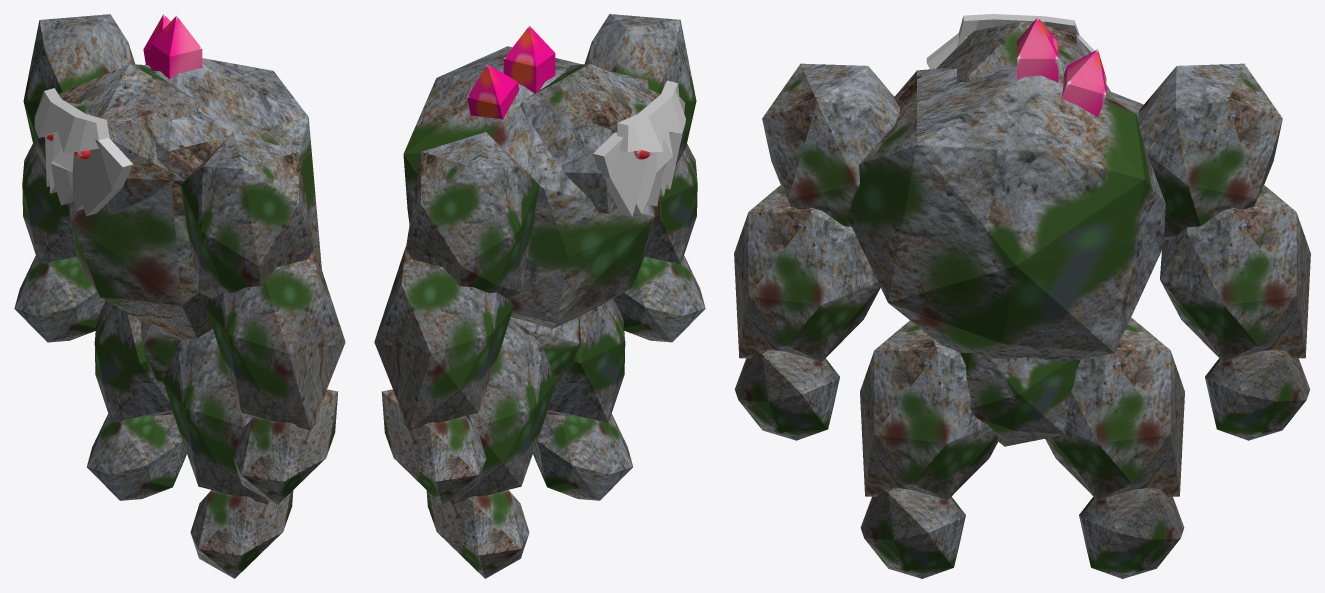
The model's file is Golem.fbx.
3 views of the same model, side by side, from view 1: azimuth 30°, elevation 25°; view 2: azimuth 150°, elevation 25°; view 3: azimuth 270°, elevation 25° (orthographic). The views are drawn at different scales.
Visible parts, largest first — view 1: Cube.001, Cube.003, Cube.007, Cube.004, Cube.005, Cube.006, Cube, Kopf oben, Stirn, Würfel.001, Cube.002; view 2: Cube.001, Cube.003, Cube.007, Cube.004, Cube.005, Cube.006, Cube, Kopf oben, Stirn, Würfel.001, Cube.002, Würfel; view 3: Cube.001, Cube.007, Cube.004, Cube.003, Cube.006, Cube.005, Cube.002, Cube, Würfel, Würfel.001, Stirn.
Part boxes in pixels (box(x1,y1,x2,y2)): Cube.001: box(68, 58, 321, 340); Cube.003: box(23, 14, 313, 298); Cube.007: box(22, 144, 345, 430); Cube.004: box(94, 300, 268, 503); Cube.005: box(87, 414, 293, 578); Cube.006: box(14, 255, 337, 504); Cube: box(58, 64, 199, 214); Kopf oben: box(45, 131, 133, 216); Stirn: box(34, 88, 109, 152); Würfel.001: box(150, 16, 202, 79); Cube.002: box(141, 321, 182, 384); Cube.001: box(403, 46, 661, 328); Cube.003: box(405, 14, 696, 298); Cube.007: box(374, 143, 697, 430); Cube.004: box(451, 298, 625, 503); Cube.005: box(426, 414, 632, 578); Cube.006: box(381, 255, 705, 504); Cube: box(520, 64, 660, 214); Kopf oben: box(593, 97, 685, 216); Stirn: box(617, 80, 685, 152); Würfel.001: box(503, 26, 555, 93); Cube.002: box(509, 317, 580, 383); Würfel: box(467, 64, 519, 119); Cube.001: box(847, 66, 1166, 361); Cube.007: box(734, 185, 1310, 362); Cube.004: box(860, 317, 1184, 500); Cube.003: box(762, 63, 1282, 239); Cube.006: box(734, 349, 1310, 440); Cube.005: box(860, 487, 1184, 578); Cube.002: box(960, 353, 1080, 446); Cube: box(936, 21, 1110, 91); Würfel: box(1061, 49, 1106, 117); Würfel.001: box(1017, 17, 1058, 82); Stirn: box(957, 14, 1079, 47).
Bounding box in the file's own units: 596 × 1126 × 1052.
